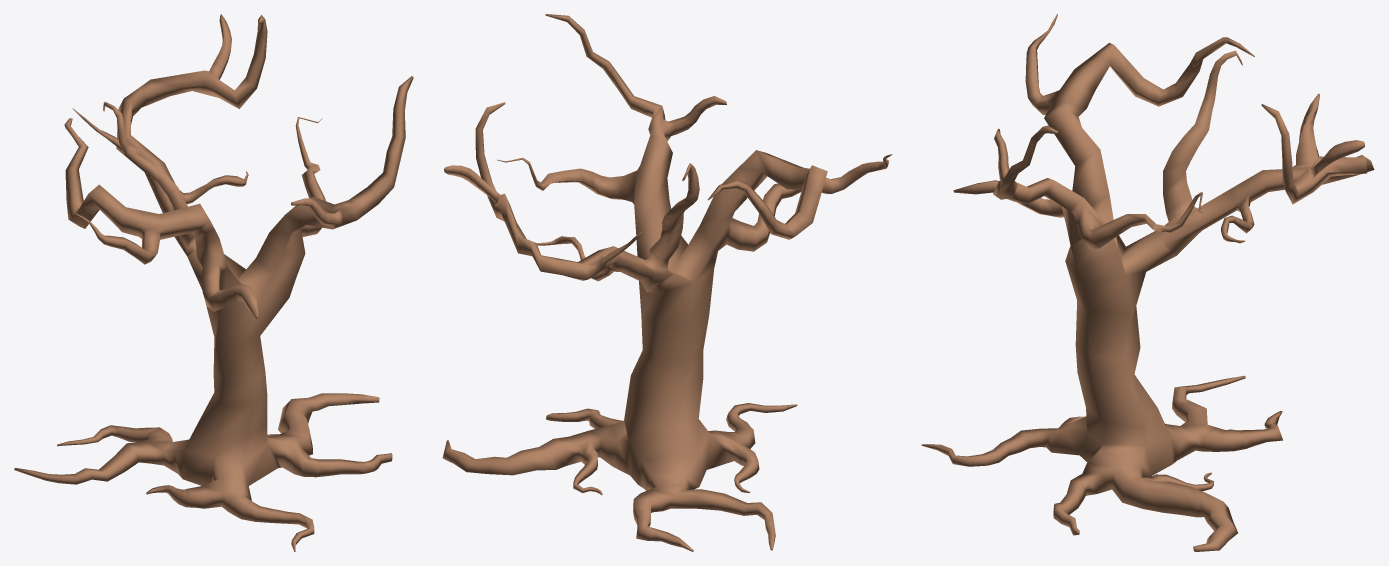
The model's file is tree_4.fbx.
3 renders of one model, left to right at view 1: azimuth 30°, elevation 25°; view 2: azimuth 150°, elevation 25°; view 3: azimuth 270°, elevation 25°, orthographic. The views are drawn at different scales.
Visible parts, largest first — view 1: tree_4; view 2: tree_4; view 3: tree_4.
Boxes of the visible parts, left/top/right/bottom form: tree_4: left=14, top=14, right=413, bottom=551; tree_4: left=442, top=14, right=892, bottom=551; tree_4: left=921, top=14, right=1374, bottom=551.
Bounding box in the file's own units: 589 × 589 × 589.
